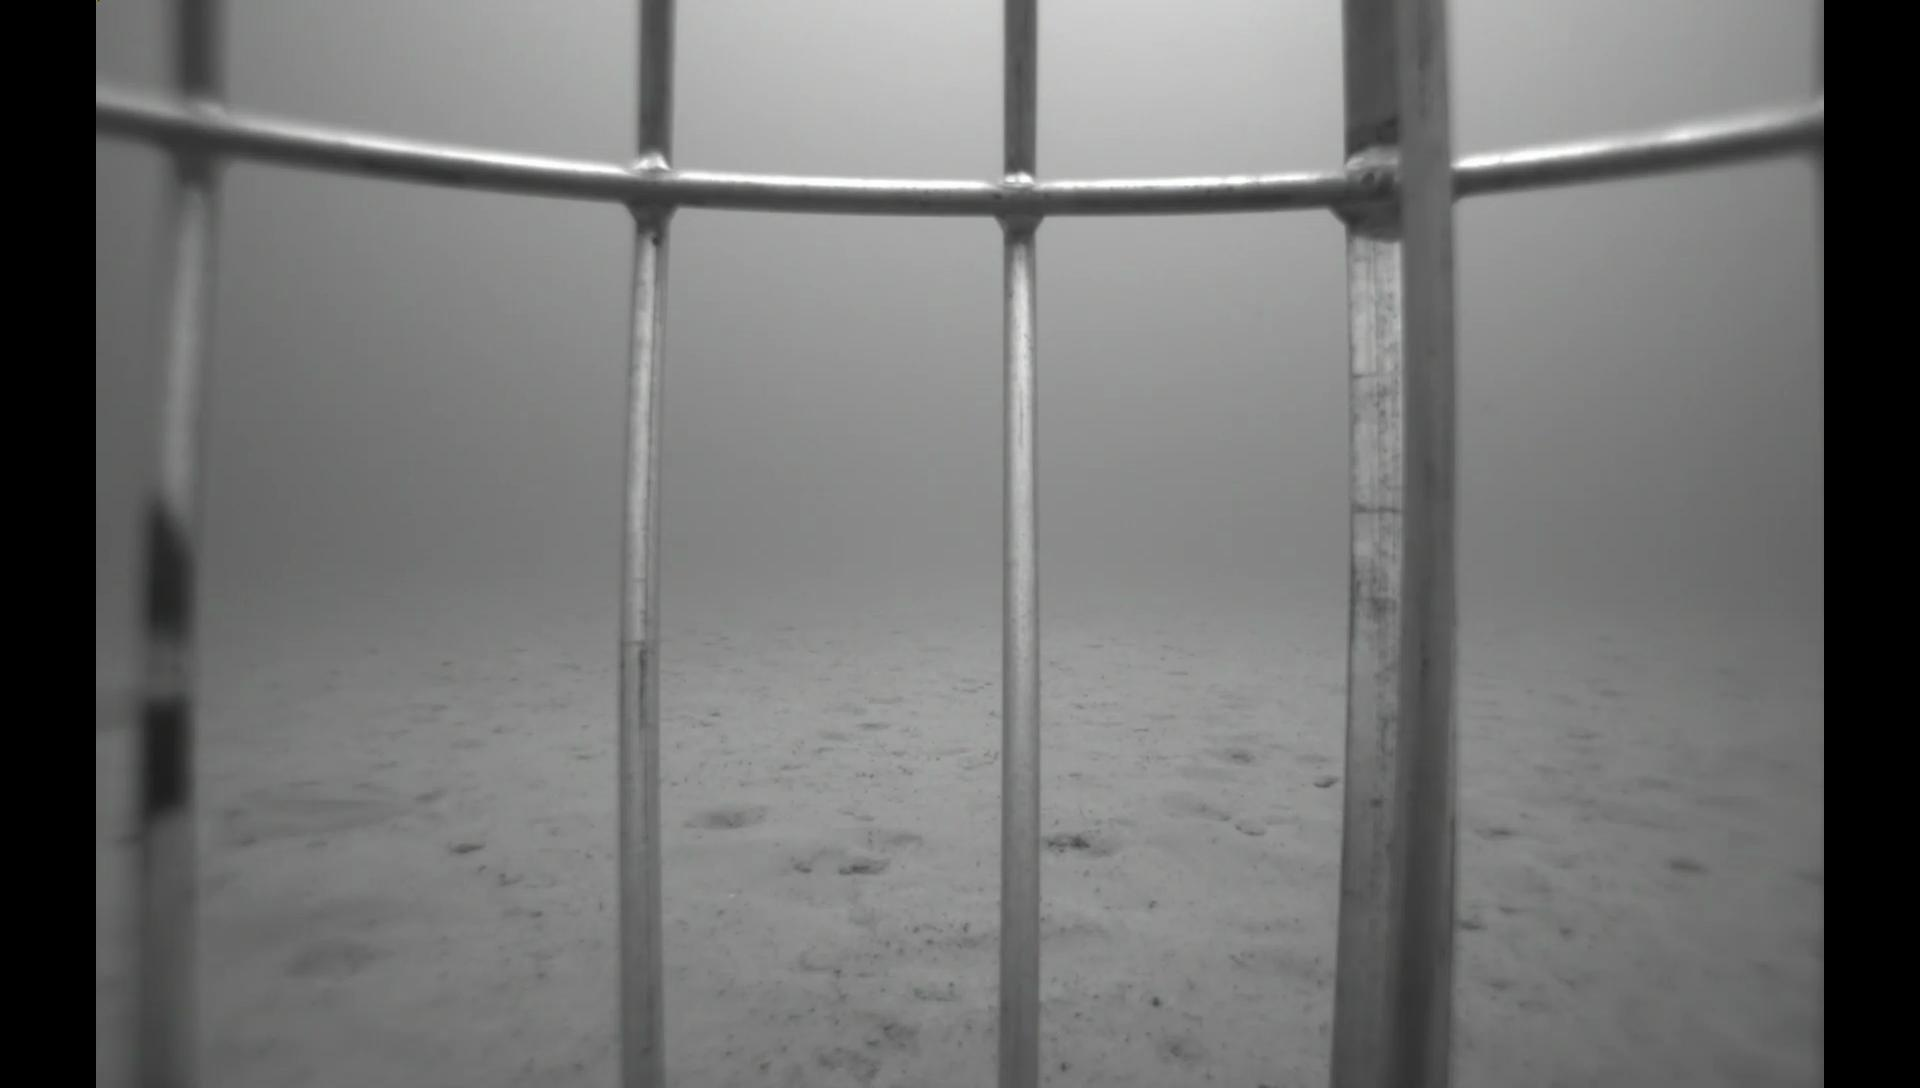CAULOLATILUSCYANOPS-170070101: (202, 768, 458, 855)
